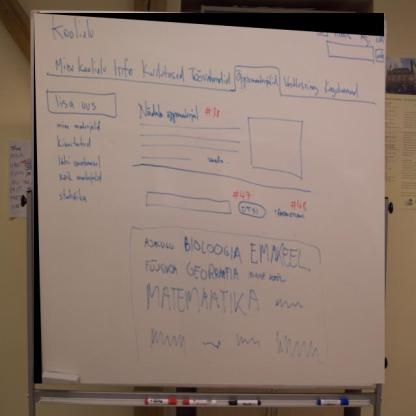Handwritten text: (135, 235, 315, 276), (47, 50, 233, 88), (131, 281, 264, 324), (129, 257, 292, 292), (42, 9, 114, 46), (139, 93, 202, 130), (287, 74, 364, 97), (54, 183, 104, 213), (51, 150, 111, 171), (49, 90, 103, 113), (52, 115, 108, 134), (46, 133, 104, 150), (239, 71, 283, 92), (53, 168, 107, 185)
Whiteboard: (23, 8, 398, 401)
